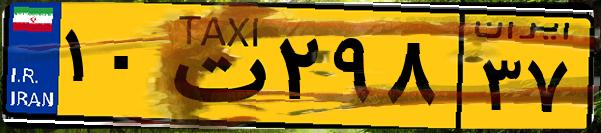0: (110, 28, 158, 98)
1: (57, 26, 110, 100)
2: (270, 28, 330, 110)
3: (475, 38, 525, 113)
7: (525, 38, 570, 115)
8: (385, 28, 445, 110)
9: (330, 28, 385, 110)
ت: (158, 12, 270, 120)
